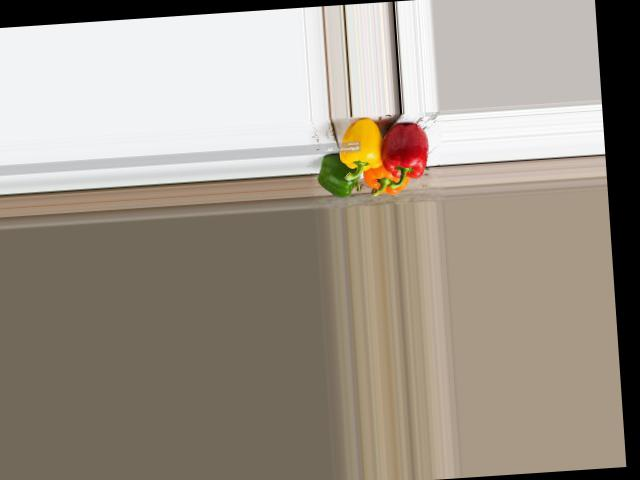bell_pepper: (361, 161, 410, 197)
